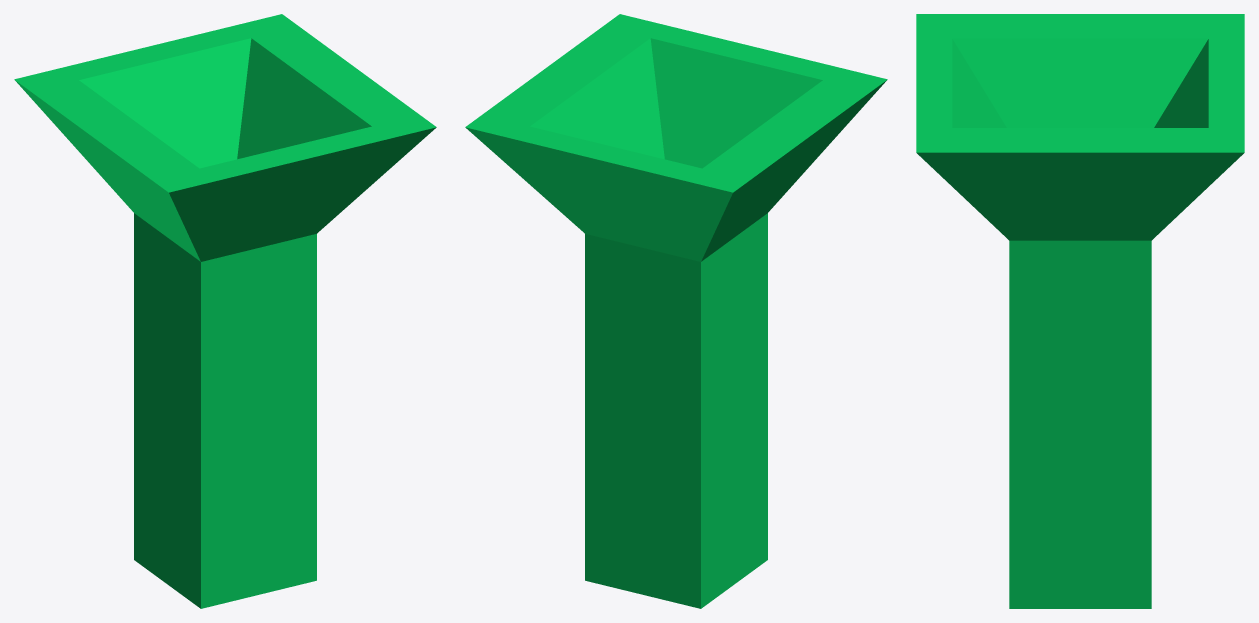
Rendered from Frutality.fbx.
3 views of the same model, side by side, from view 1: azimuth 30°, elevation 25°; view 2: azimuth 150°, elevation 25°; view 3: azimuth 270°, elevation 25° (orthographic). The views are drawn at different scales.
Parts seen in each view (by area): view 1: Cube; view 2: Cube; view 3: Cube.
Part boxes in pixels (x1=…): Cube: x1=14, y1=14, x2=436, y2=608; Cube: x1=465, y1=14, x2=887, y2=608; Cube: x1=916, y1=14, x2=1244, y2=608.
Size of the model in its own units: 3.21 by 5.34 by 3.21.
